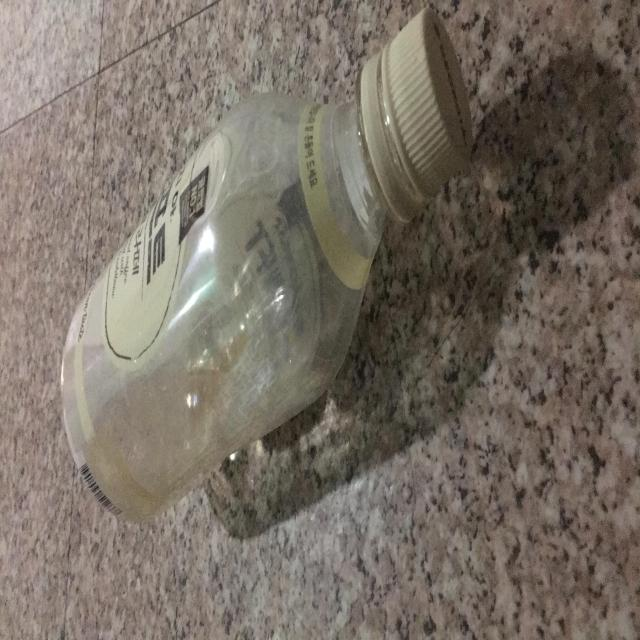bottle: (0, 5, 493, 538)
